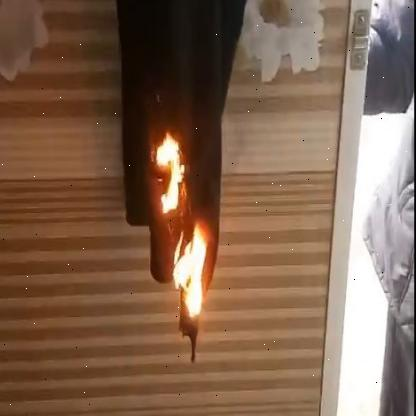fire: (172, 216, 210, 324), (154, 121, 186, 218)
